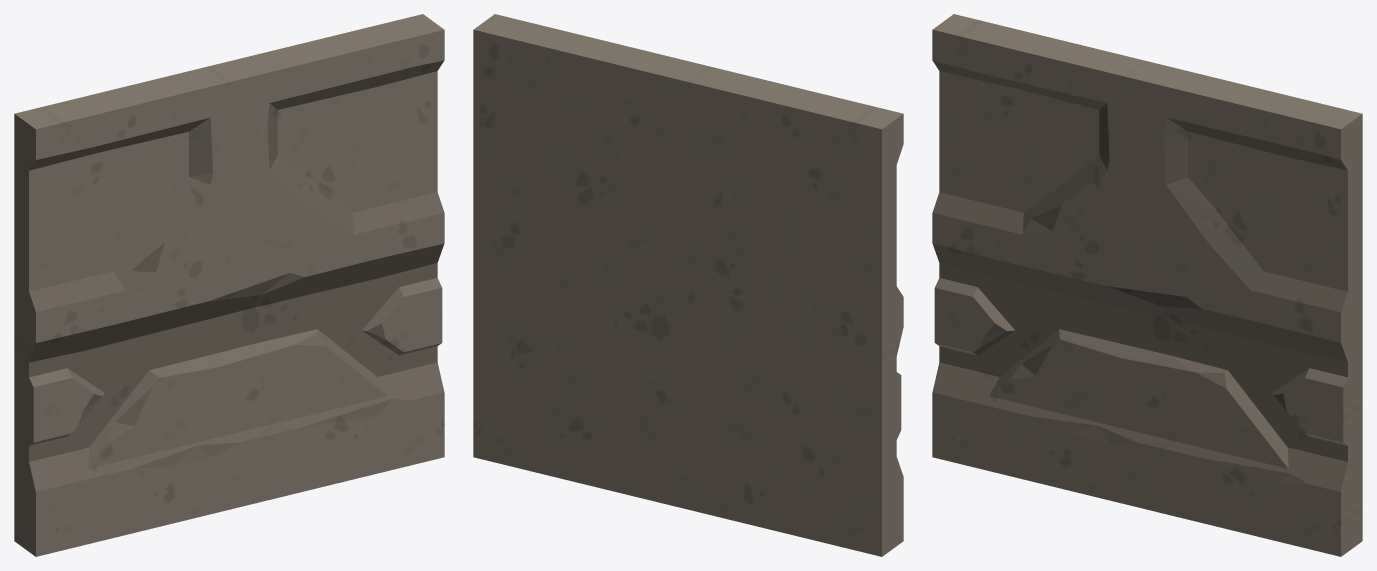
The model's file is forge_wall_c.gltf.
3 renders of one model, left to right at view 1: azimuth 30°, elevation 25°; view 2: azimuth 150°, elevation 25°; view 3: azimuth 330°, elevation 25°, orthographic.
Visible parts, largest first — view 1: forge_wall_c; view 2: forge_wall_c; view 3: forge_wall_c.
Boxes of the visible parts, left/top/right/bottom form: forge_wall_c: left=14, top=14, right=444, bottom=556; forge_wall_c: left=473, top=14, right=903, bottom=556; forge_wall_c: left=932, top=14, right=1362, bottom=556.
Size of the model in its own units: 5 by 5 by 0.4543.
Materials: 1 (1 with a texture image).
